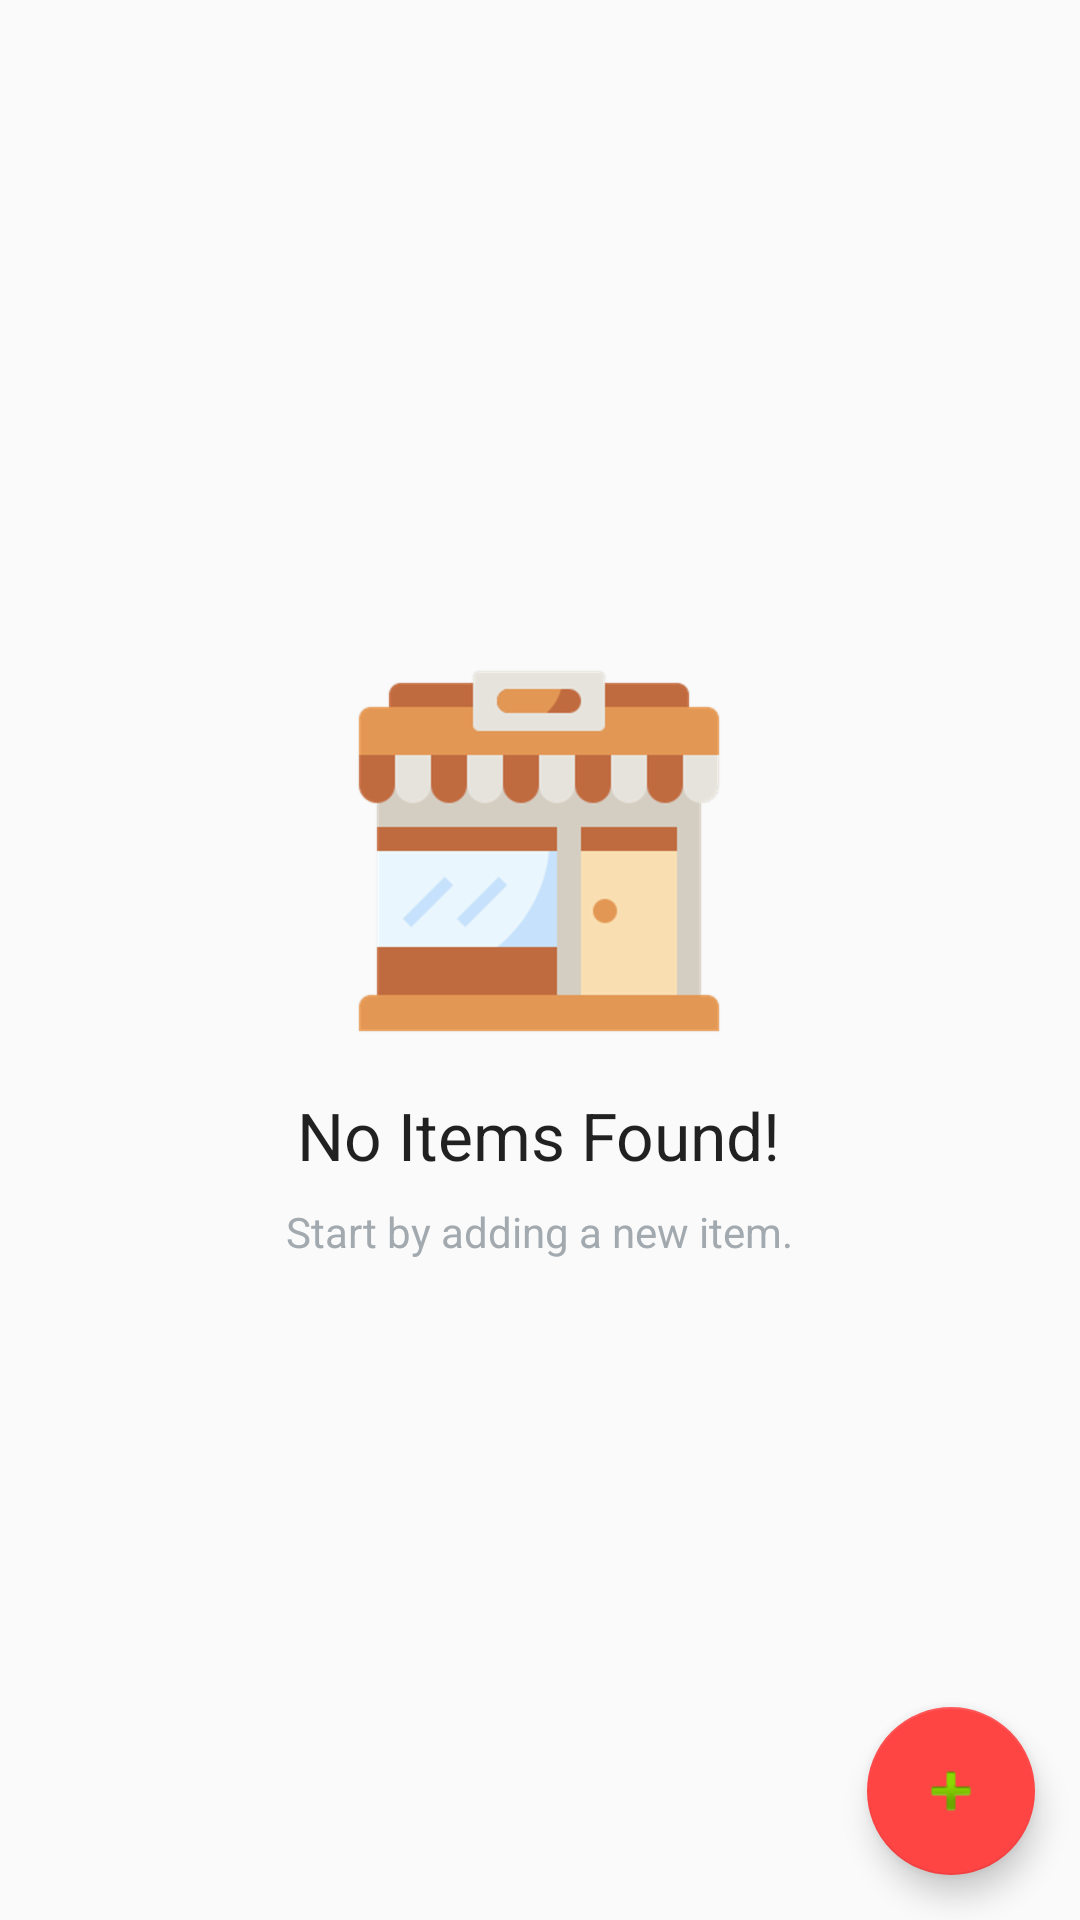

Icon bounding boxes for this 1080*1920 phone screenshot, format (x1, y1, x2, y2):
add: (867, 1707, 1035, 1875)
